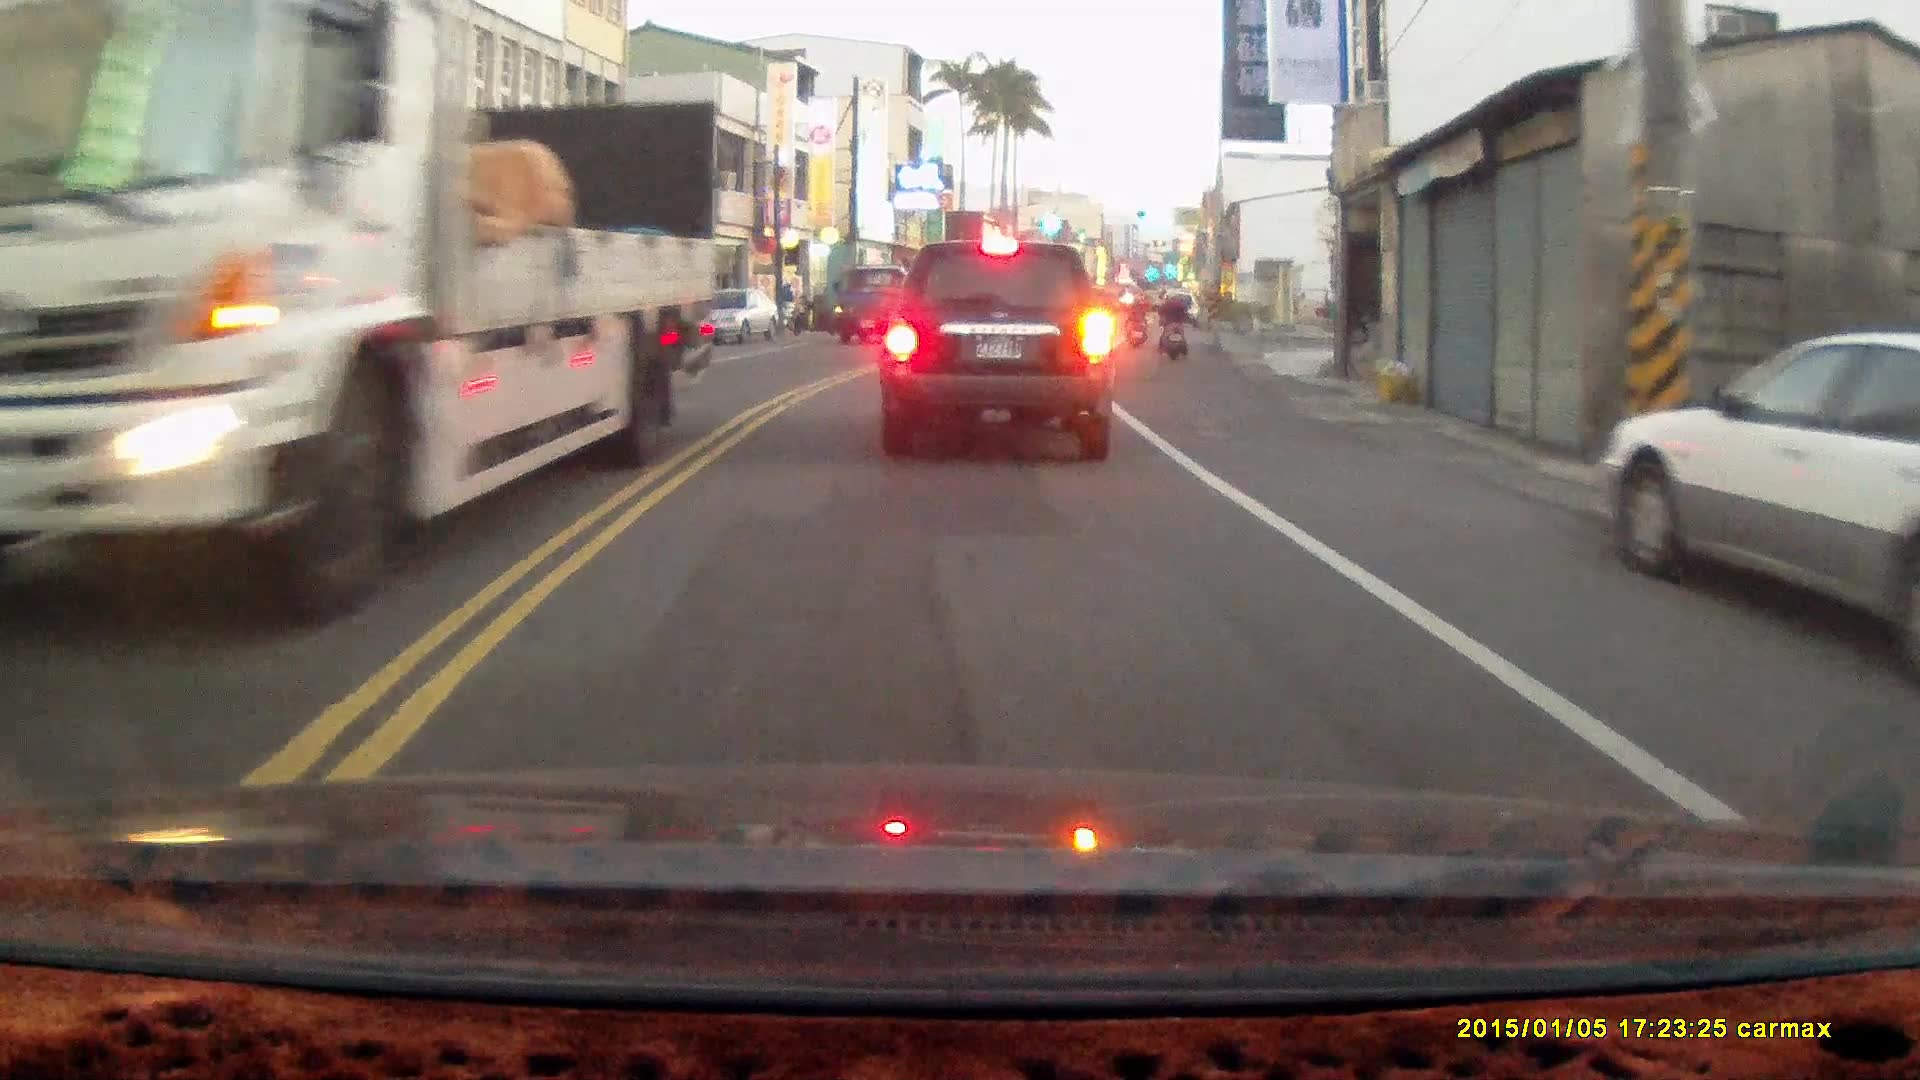rider: (1155, 283, 1186, 363), (1122, 291, 1147, 348)
vehicle: (1, 0, 720, 635), (1597, 328, 1920, 655), (877, 236, 1120, 461), (830, 262, 937, 346), (702, 287, 781, 345)
